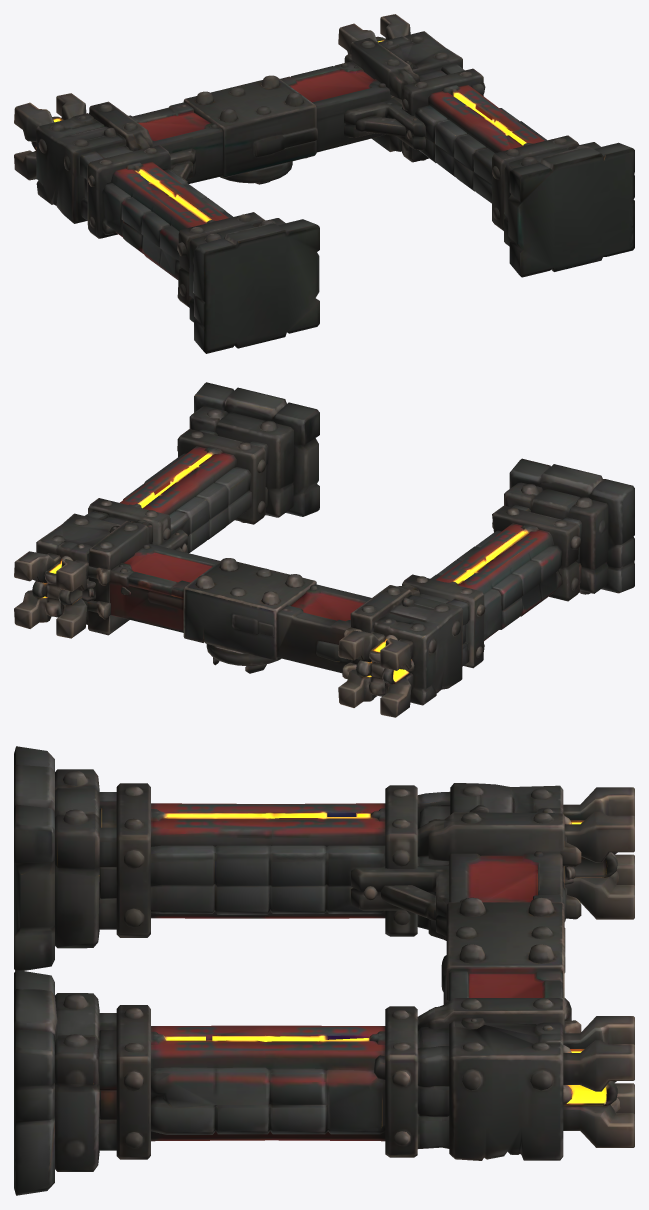
3 views of the same model, one above another, from view 1: azimuth 30°, elevation 25°; view 2: azimuth 150°, elevation 25°; view 3: azimuth 270°, elevation 25° (orthographic). The views are drawn at different scales.
Parts seen in each view (by area): view 1: SM_Tripo_InfernoMoltenGateFrame_LOD0; view 2: SM_Tripo_InfernoMoltenGateFrame_LOD0; view 3: SM_Tripo_InfernoMoltenGateFrame_LOD0.
Part boxes in pixels (<box>): SM_Tripo_InfernoMoltenGateFrame_LOD0: <box>14,14,634,353</box>; SM_Tripo_InfernoMoltenGateFrame_LOD0: <box>14,382,634,717</box>; SM_Tripo_InfernoMoltenGateFrame_LOD0: <box>14,746,634,1195</box>.
Size of the model in its own units: 13.89 by 3.32 by 12.
1 material, 1 textured.
